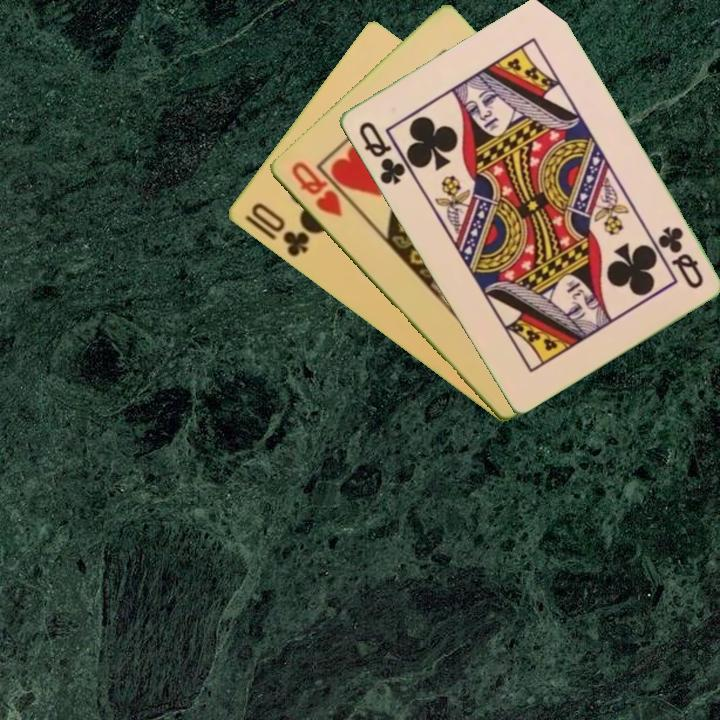10c: (247, 199, 312, 260)
Qc: (354, 118, 408, 188), (653, 222, 706, 292)
Qh: (287, 157, 345, 220)
